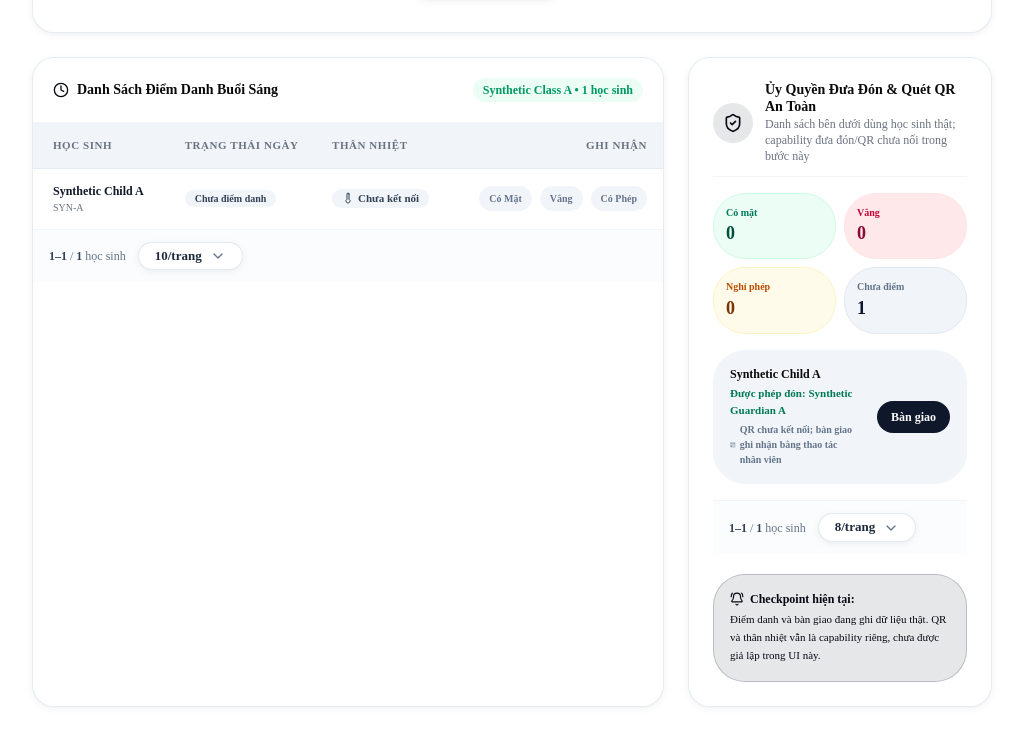
distinguishes a successful handover POST from failed readback and requires fresh data before another command
(page scrolled)
Click the button "Bàn giao" at (914, 417), box x1=877 y1=401 x2=950 y2=433
(page scrolled)
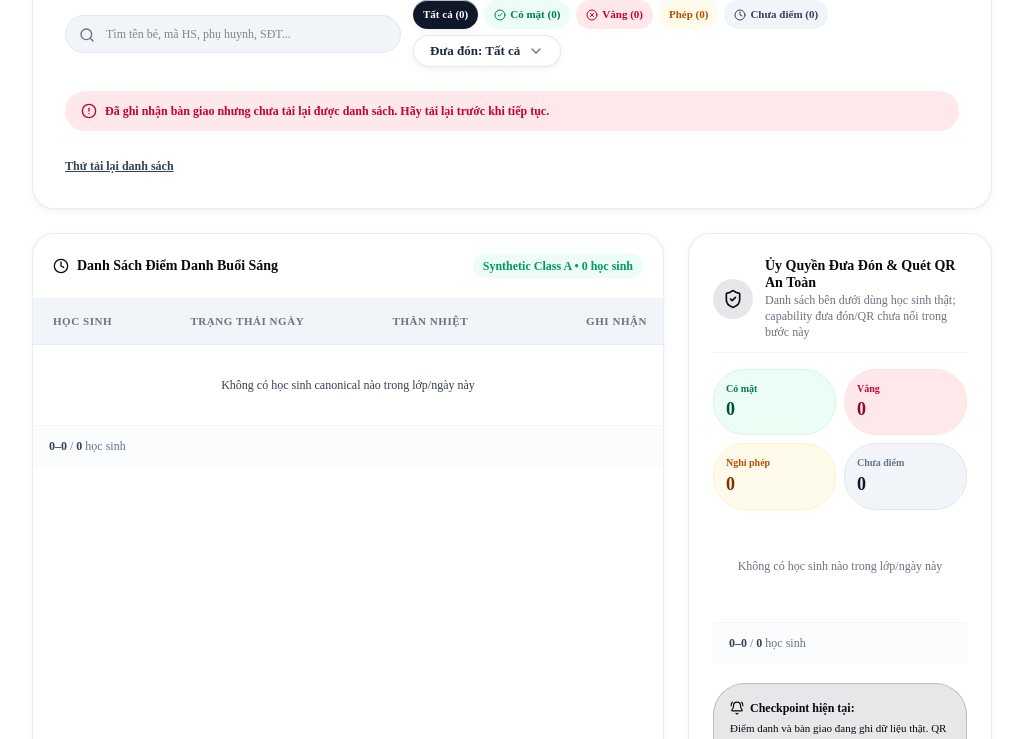
Expected: the message shows "chưa tải lại được danh sách", x1=105 y1=104 x2=549 y2=118
Expected: the text "Synthetic Child A" is not shown
Click the button "Thử tải lại danh sách" at (119, 166), box x1=65 y1=158 x2=174 y2=174
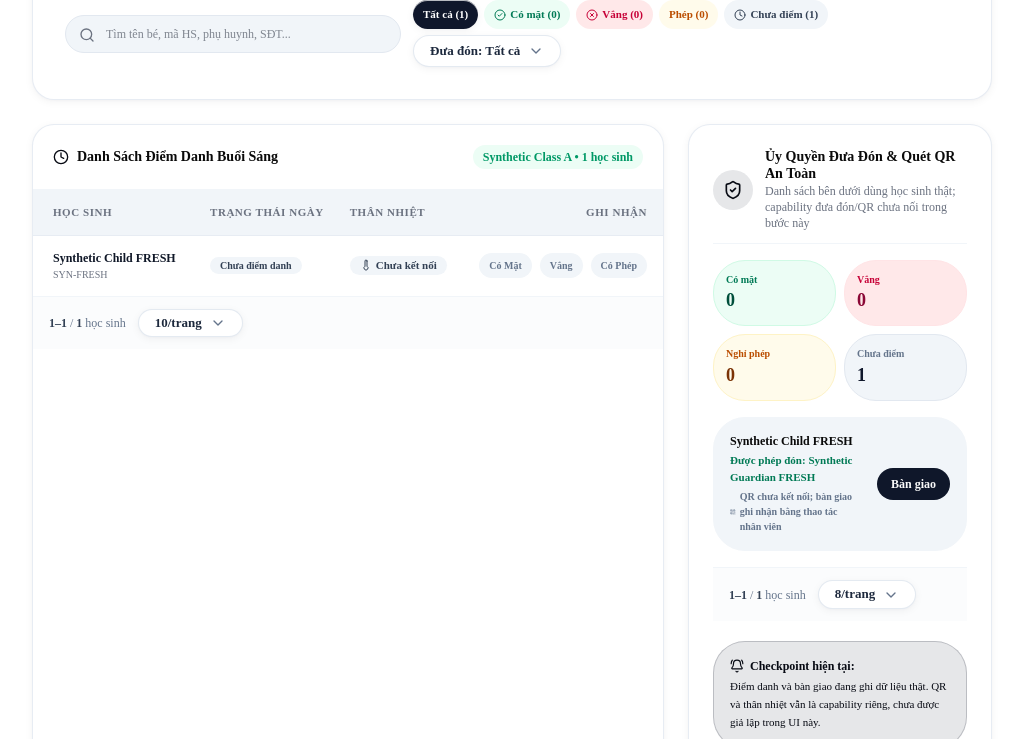
Expected: the text "Synthetic Child FRESH" is shown, x1=53 y1=250 x2=178 y2=266
Expected: the message is gone
